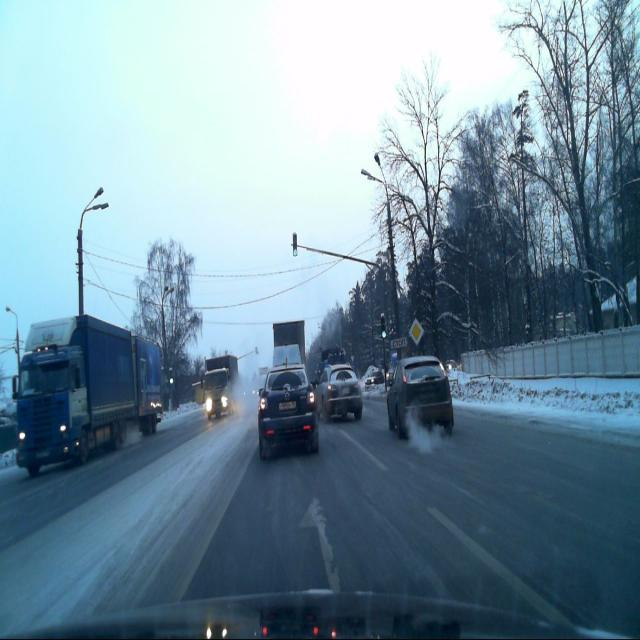road sign: (408, 318, 424, 346)
